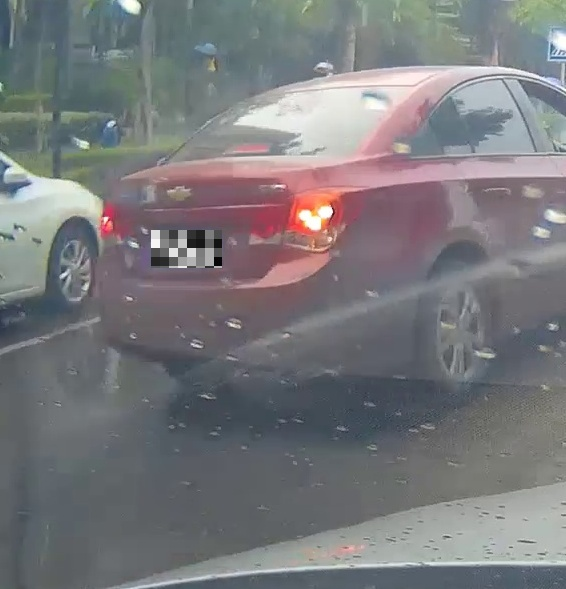L_light: (98, 201, 140, 246)
R_light: (247, 185, 372, 254)
T_light: (225, 142, 274, 155)
day-right: (96, 70, 439, 404)
plate_1: (151, 230, 222, 268)
